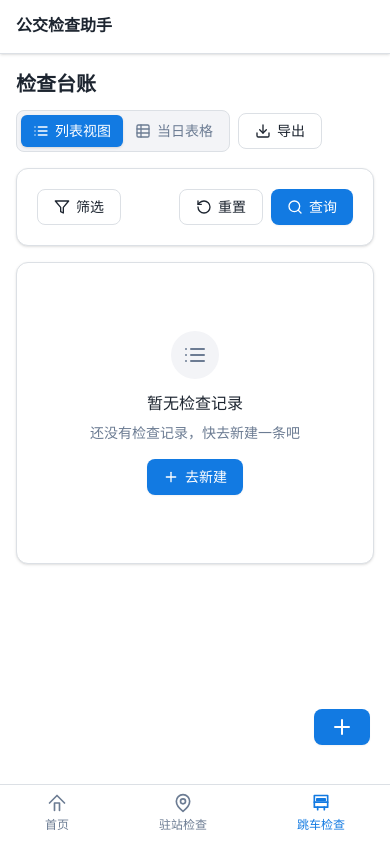
Scenario: 应用冒烟测试 › 能进入新建表单页
Click the button named "新建检查" at (342, 727), box [314,709,370,745]
(page scrolled)
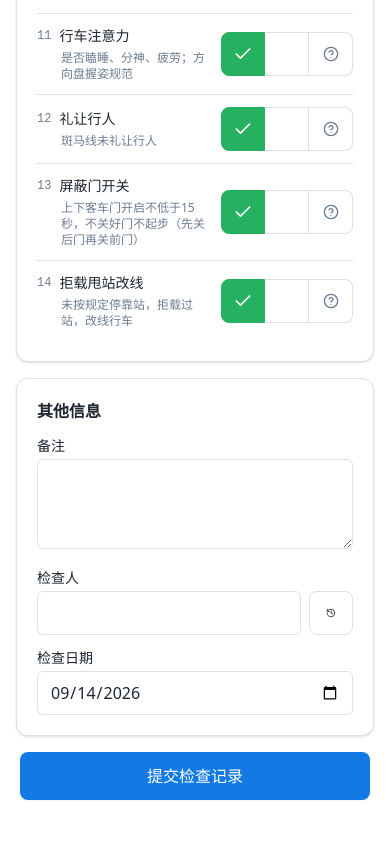
Check: the heading "其他信息" is shown, box [37,400,101,422]
